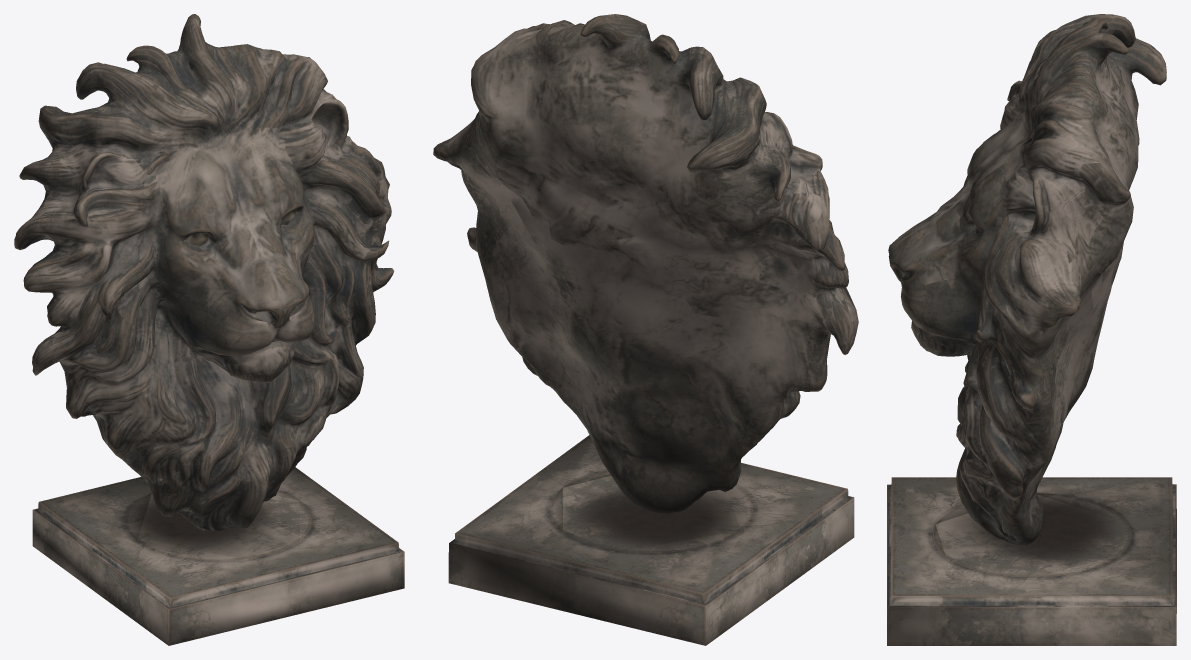
File: lion_head.glb
3 views of the same model, side by side, from view 1: azimuth 30°, elevation 25°; view 2: azimuth 150°, elevation 25°; view 3: azimuth 270°, elevation 25° (orthographic). The views are drawn at different scales.
Parts seen in each view (by area): view 1: lion_head; view 2: lion_head; view 3: lion_head.
Boxes of the visible parts, left/top/right/bottom form: lion_head: left=14, top=14, right=404, bottom=645; lion_head: left=433, top=14, right=858, bottom=645; lion_head: left=887, top=14, right=1176, bottom=645.
Bounding box in the file's own units: 2.94 × 4 × 1.89.
Materials: 1 (1 with a texture image).
